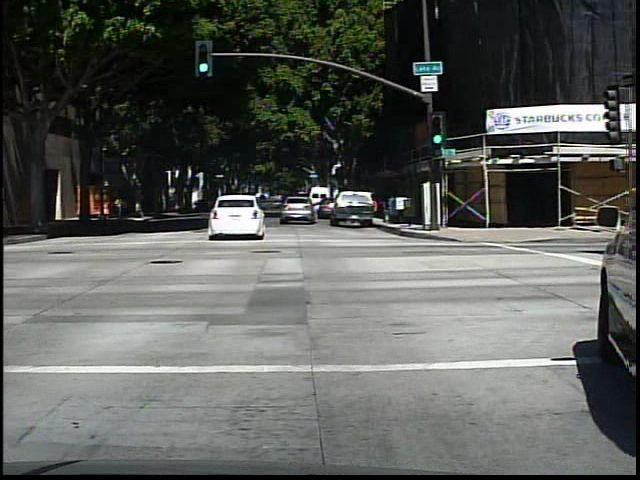person: (112, 194, 129, 222)
